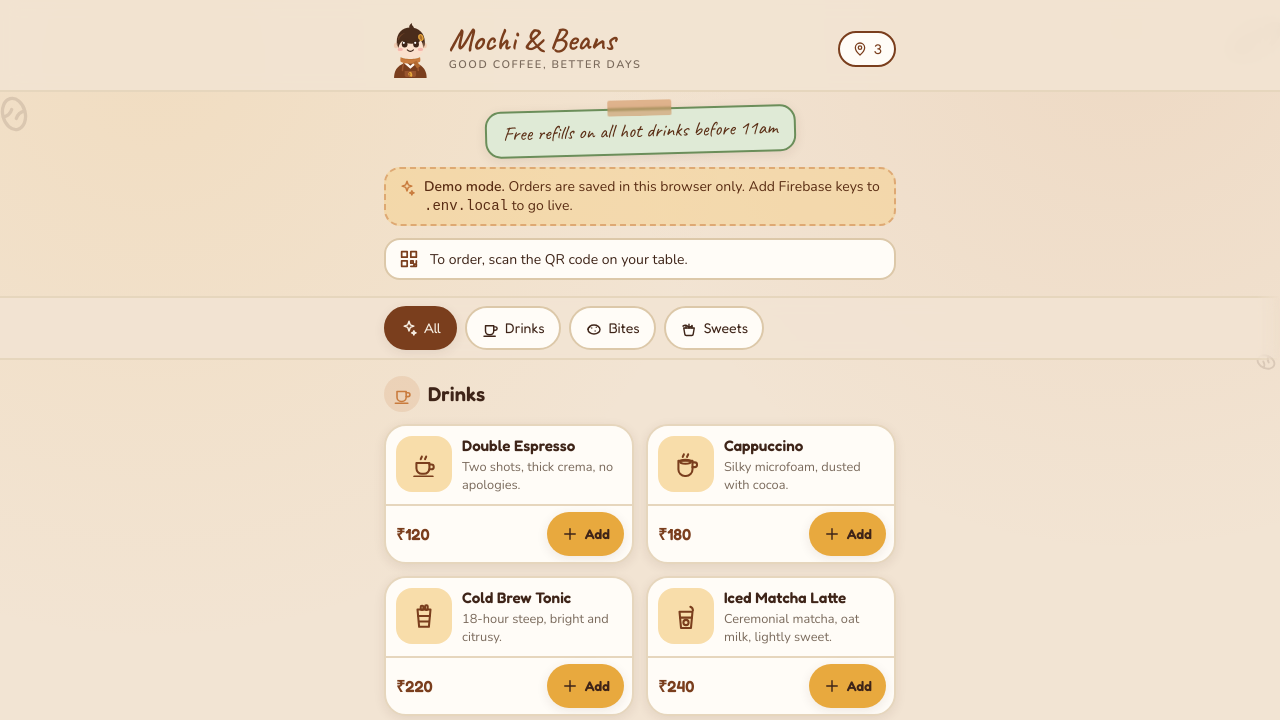
it: /order before checkout › still tells a keyless customer to scan when the table has a code
What coordinates should you click on to do the following:
click the button "Add" below "Double Espresso"
I would click on:
 (585, 534)
Its box is [547,512,624,556].
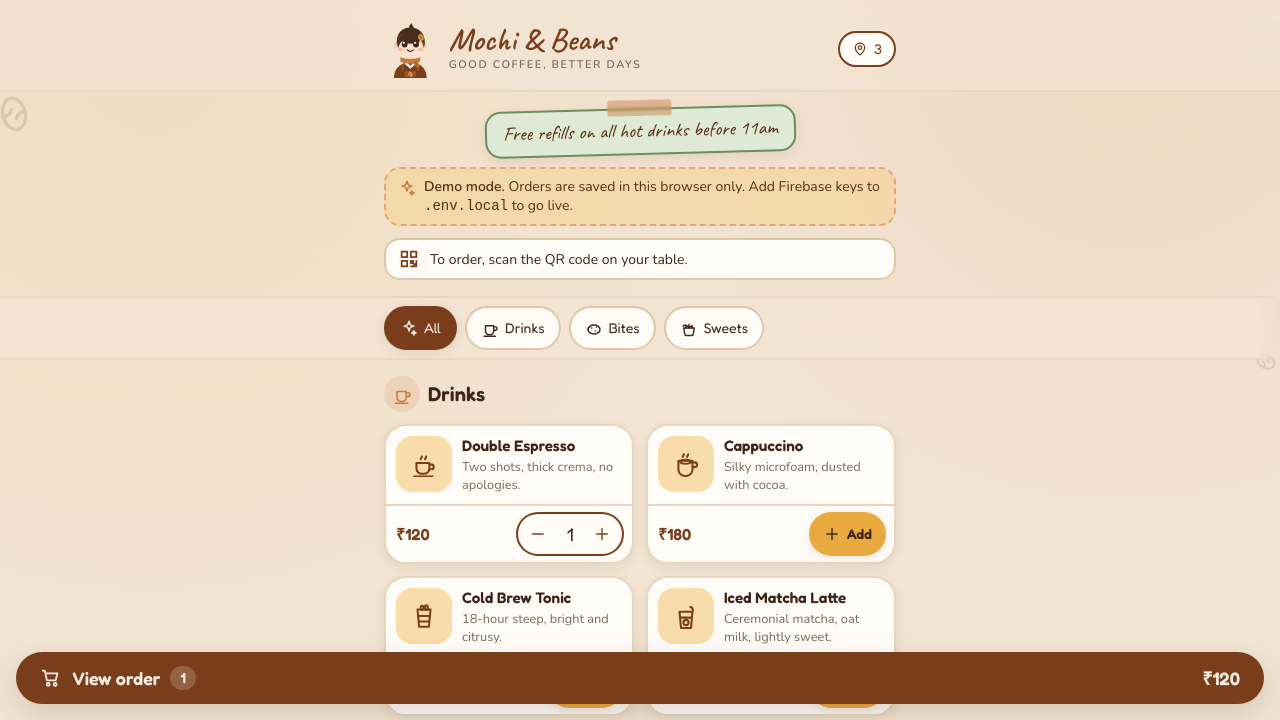
What coordinates should you click on to do the following:
click the button "View order 1 ₹120"
I would click on:
 (116, 678)
Its box is [16,652,1264,704].
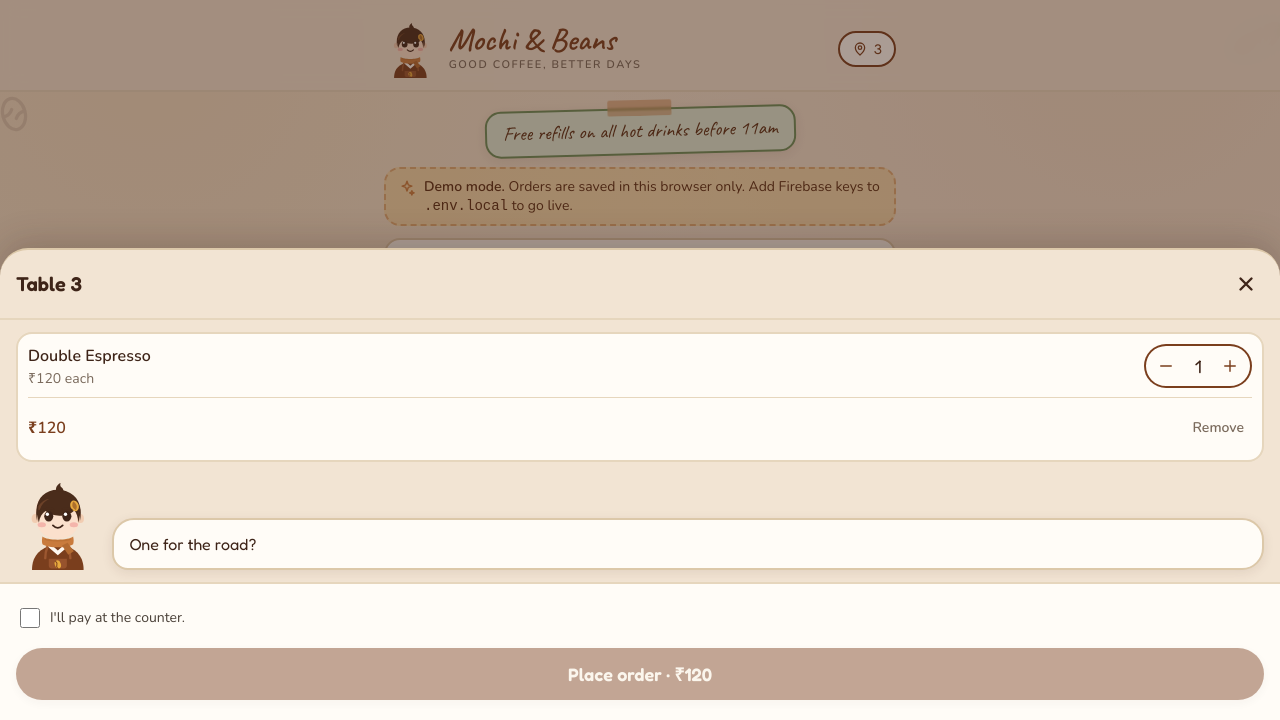
What coordinates should you click on to do the following:
click the checkbox
I would click on:
 (30, 618)
Its box is [20,608,40,628].
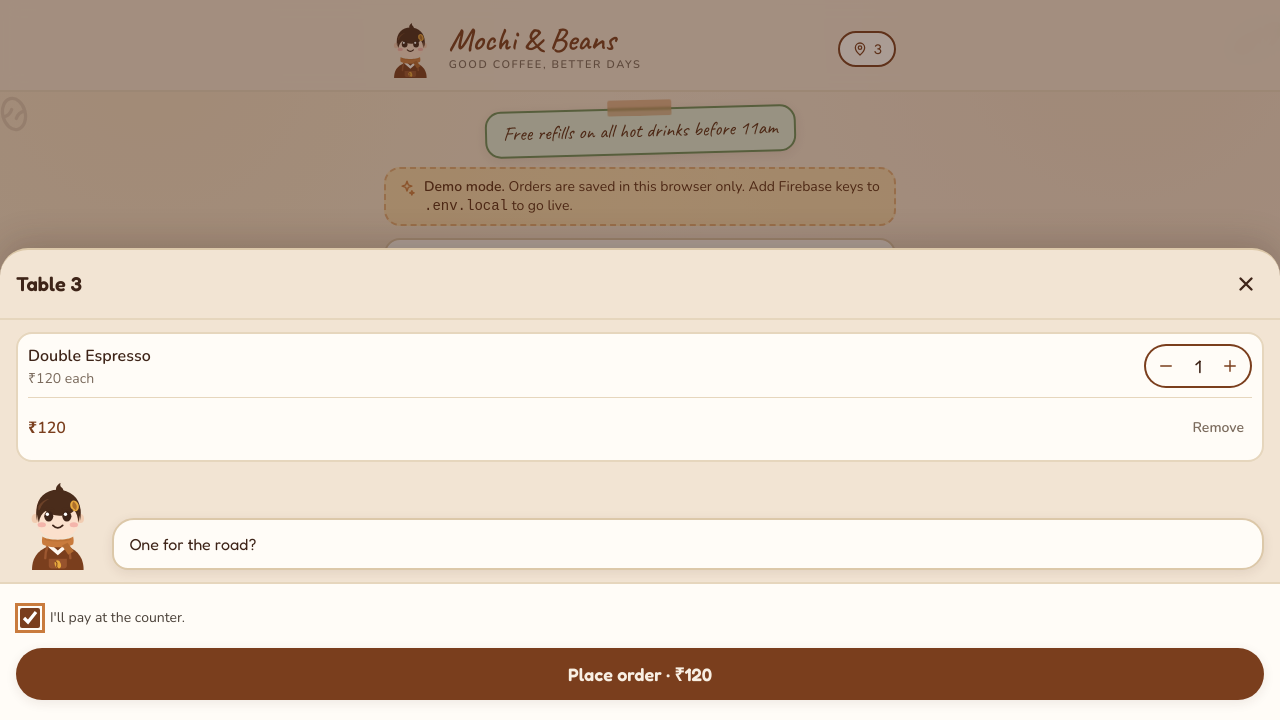
What coordinates should you click on to do the following:
click the button "Place order · ₹120"
I would click on:
 (640, 674)
Its box is [16,648,1264,700].
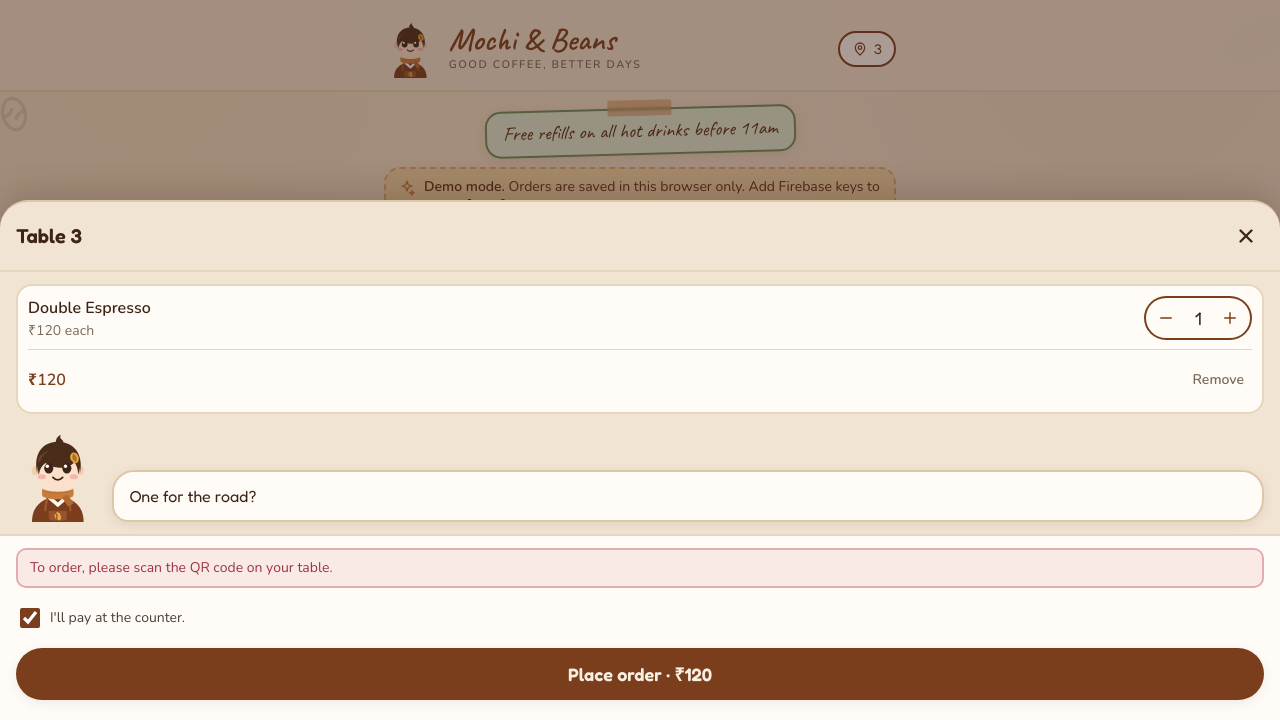
Now the text "To order, please scan the QR code on your table." is shown, box [16,548,1264,588]
